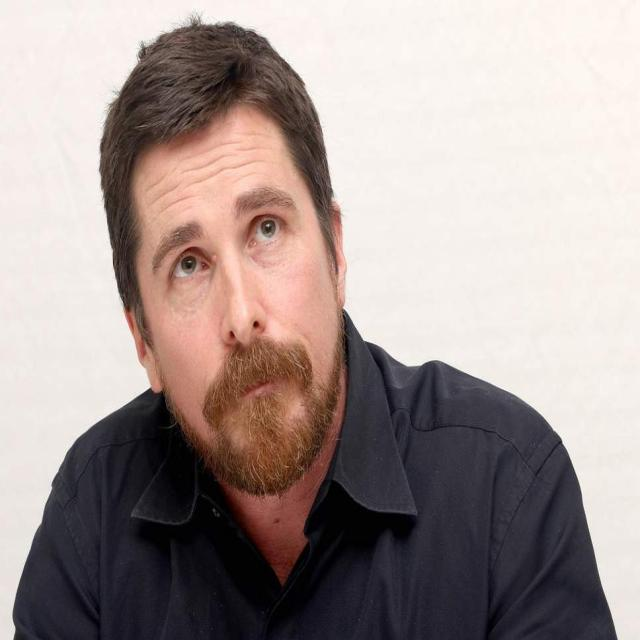mobile_phonerotation: (10, 14, 618, 637)
